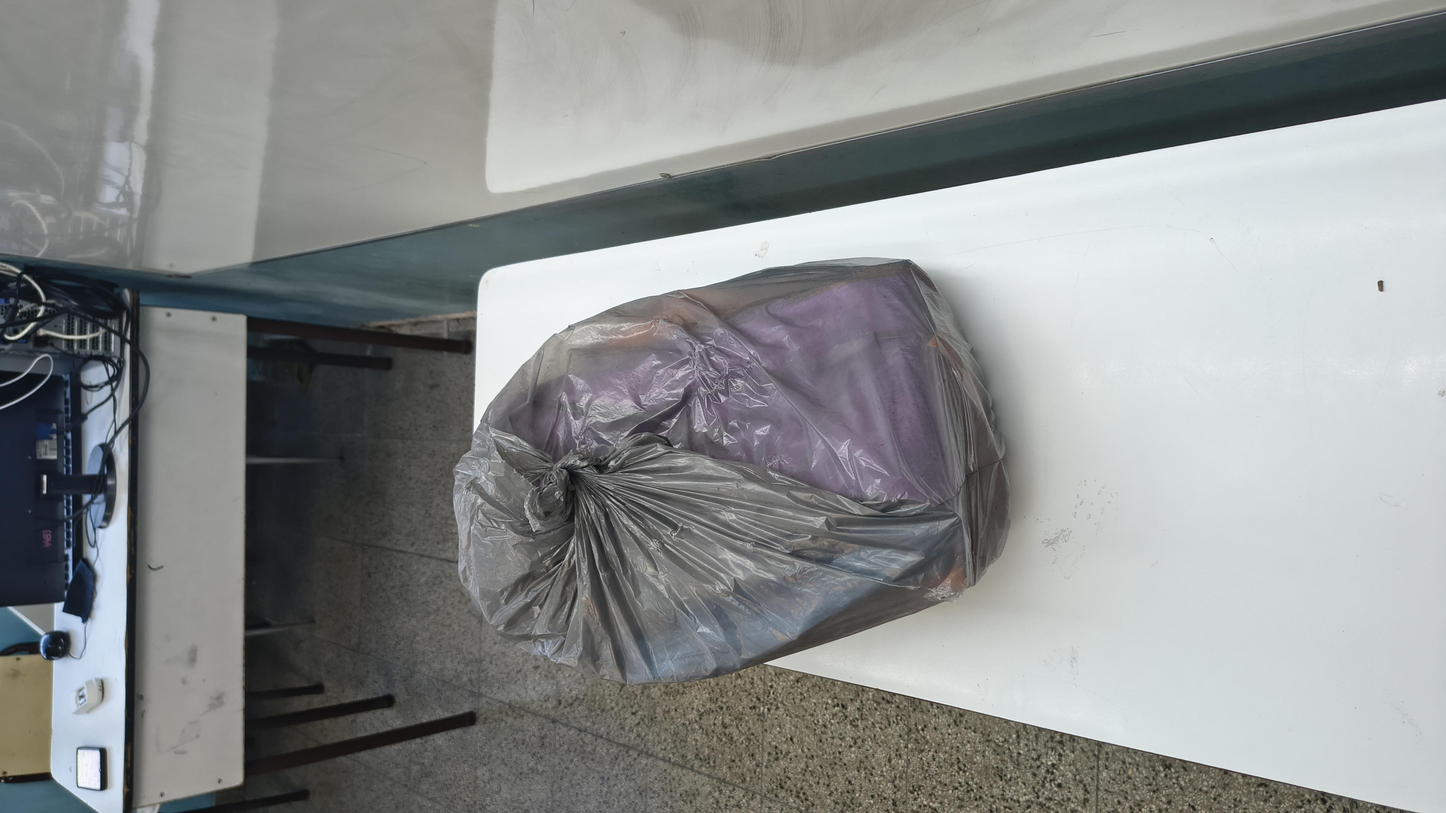Garbage: (176, 244, 1073, 615)
